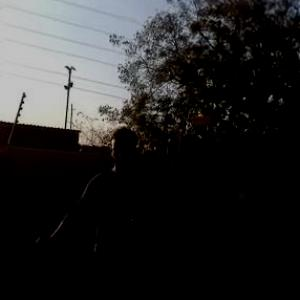follow: (31, 121, 166, 299)
